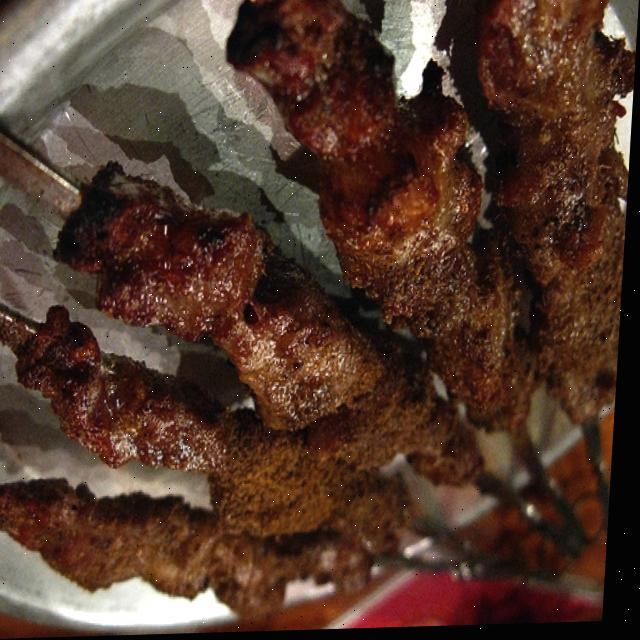烧串烤肉: (0, 3, 639, 628)
